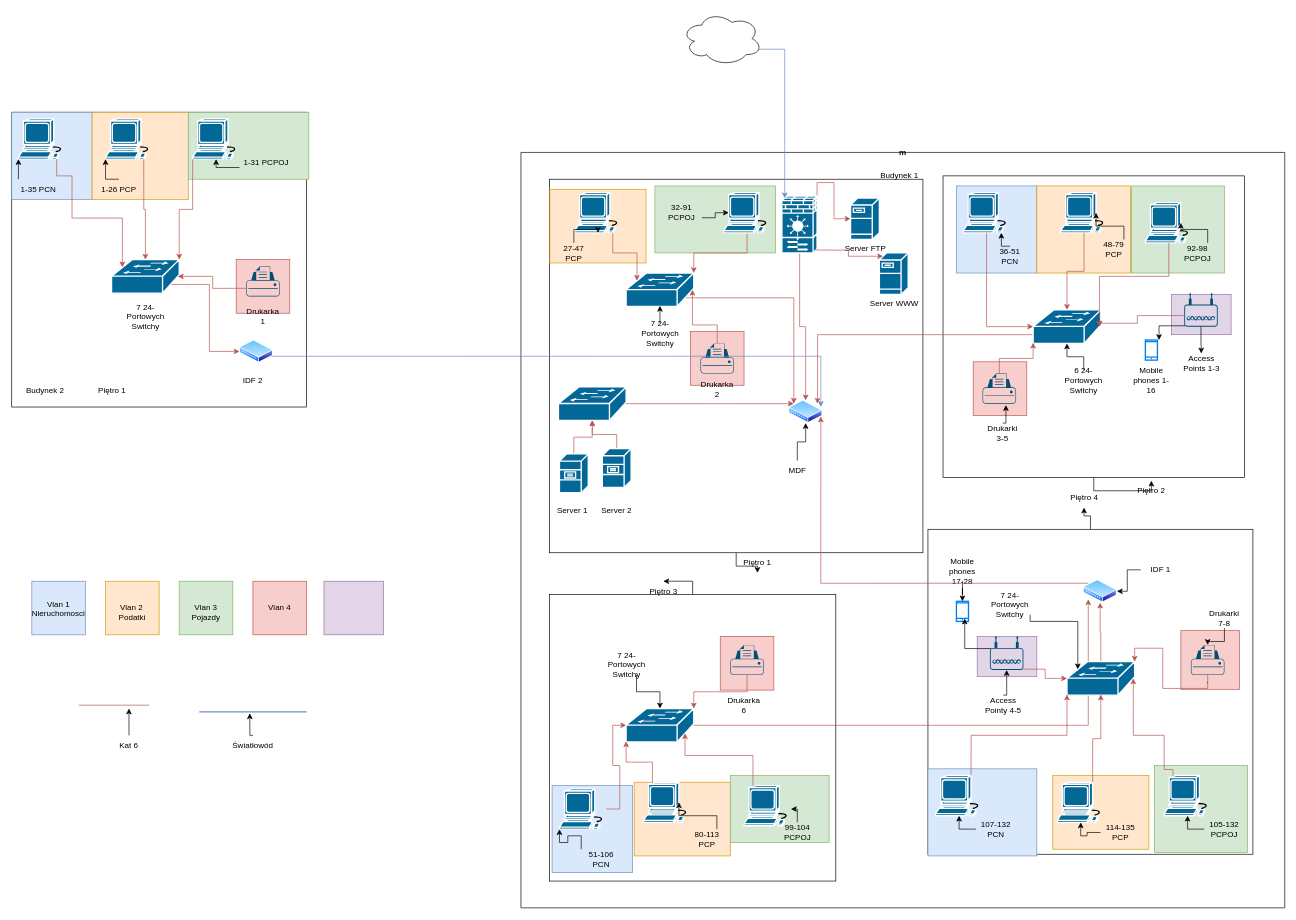
The diagram is 1296 pixels wide and 920 high, and some of its shapes have lost their labels. Here are the shapes that lost their labels. From the top down, the box of each, then its label:
(781, 195, 818, 253): Fortigate300F
(252, 581, 307, 635): Misc
(323, 581, 384, 635): Vlan 5 Wi-Fi
